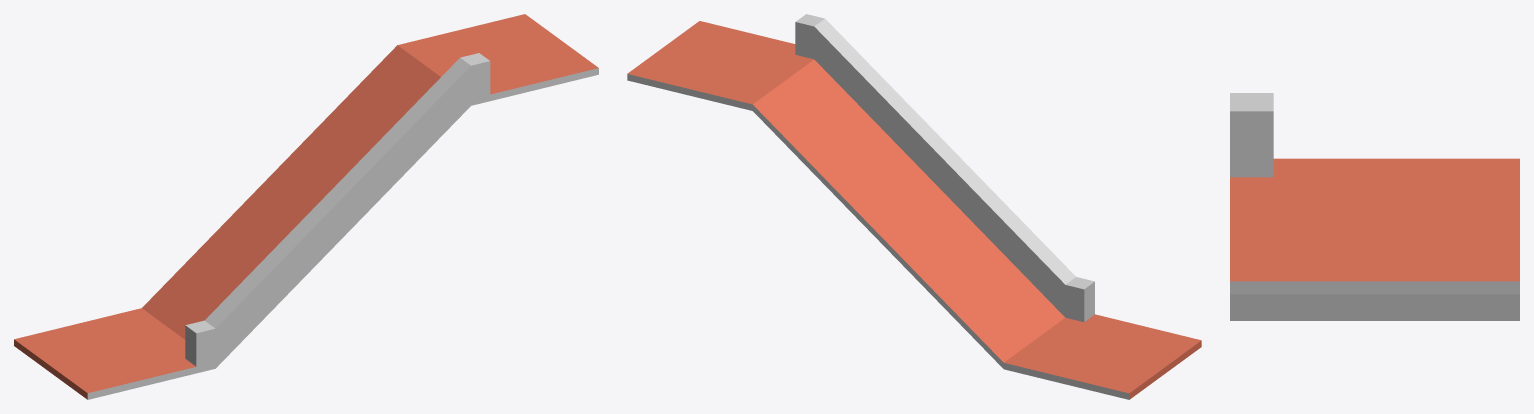
The model's file is stairs.fbx.
3 views of the same model, side by side, from view 1: azimuth 30°, elevation 25°; view 2: azimuth 150°, elevation 25°; view 3: azimuth 270°, elevation 25° (orthographic). The views are drawn at different scales.
Parts seen in each view (by area): view 1: stairs; view 2: stairs; view 3: stairs.
Part boxes in pixels (bbox=[...]): stairs: bbox=[14, 14, 598, 399]; stairs: bbox=[627, 14, 1201, 399]; stairs: bbox=[1230, 93, 1519, 320].
Bounding box in the file's own units: 800 × 360 × 200.
